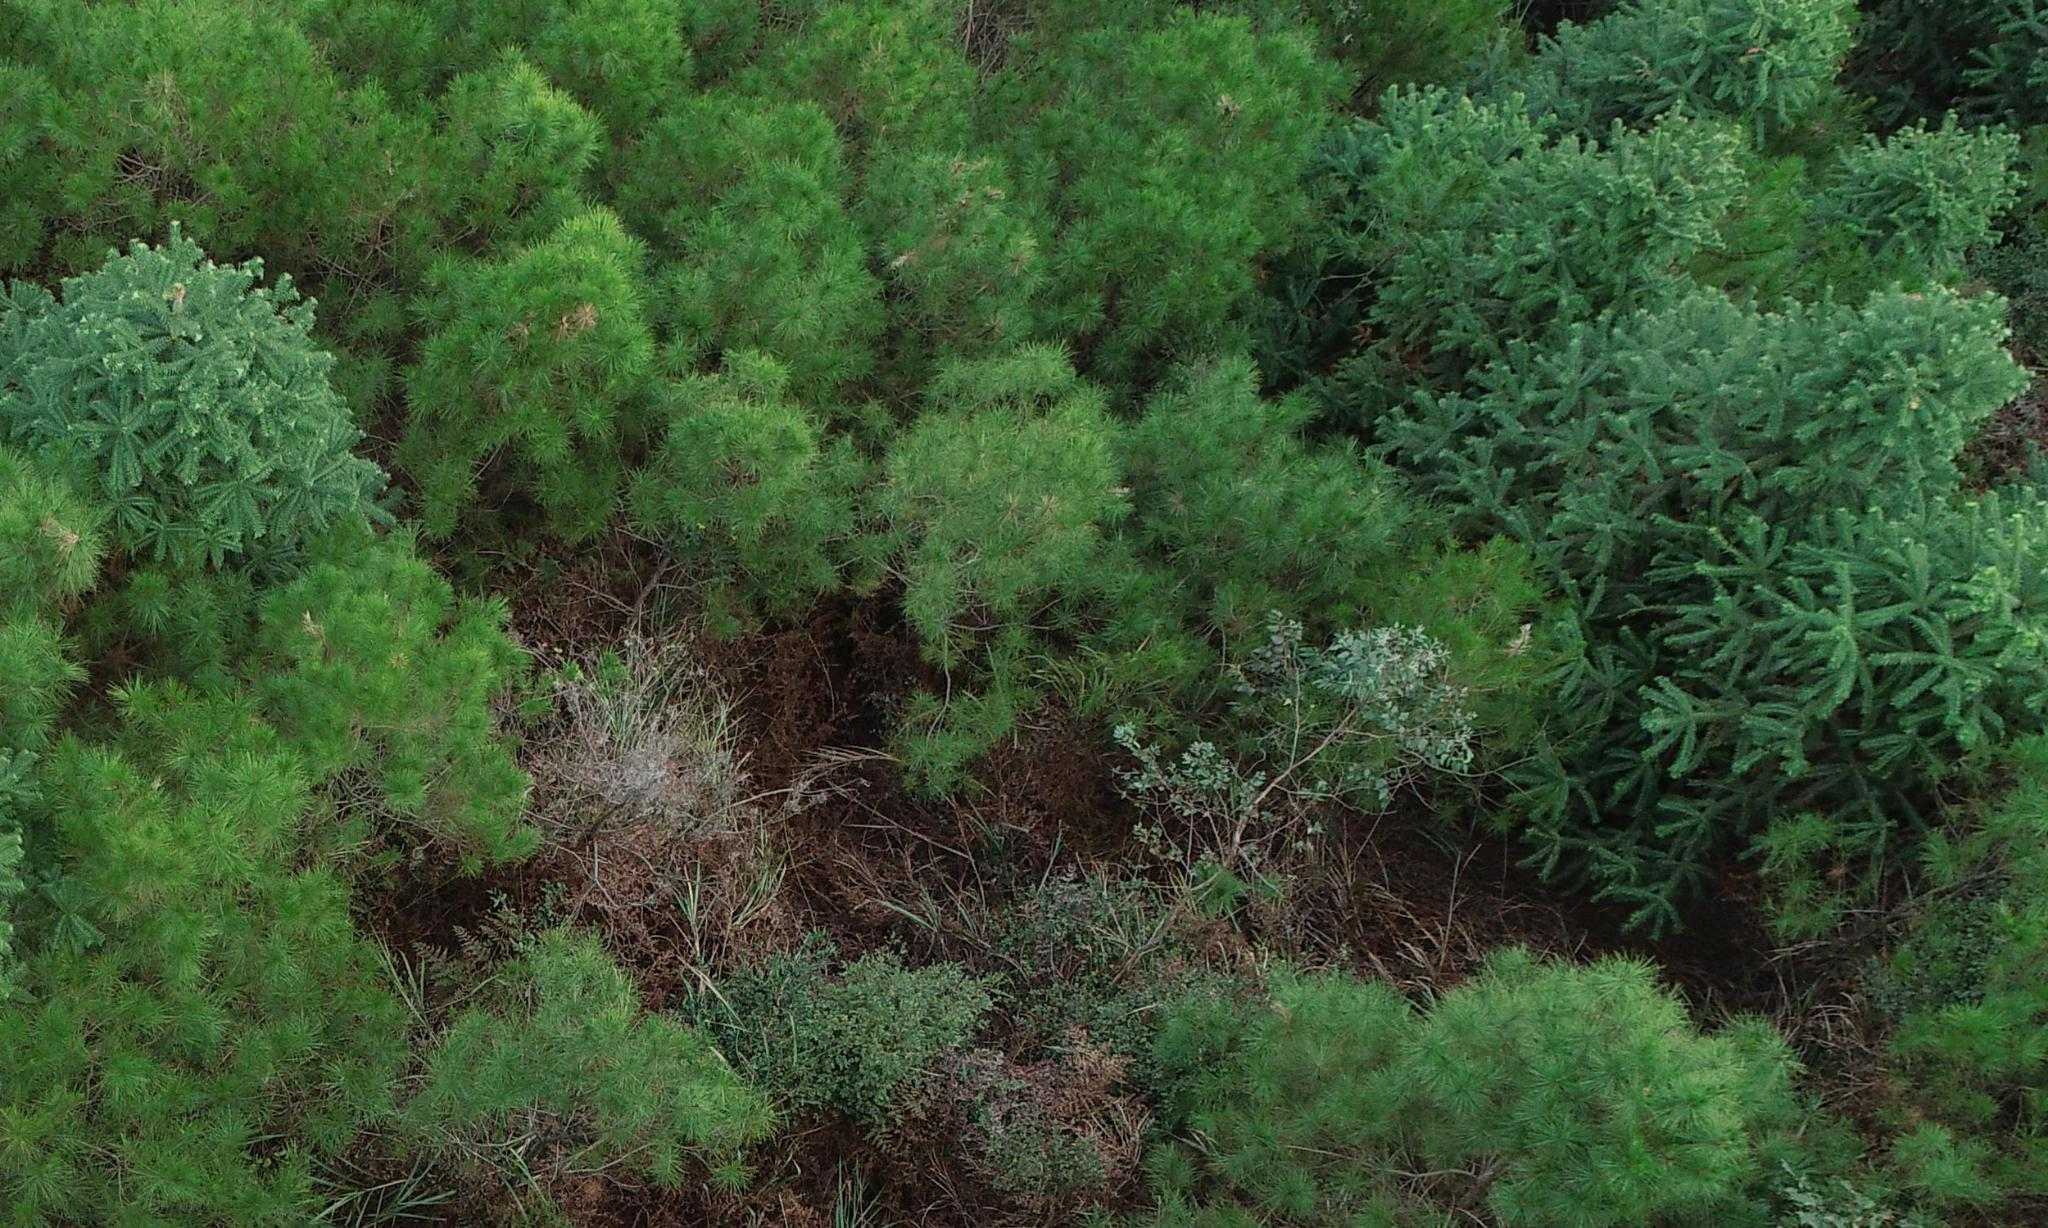dead: (512, 653, 776, 984)
